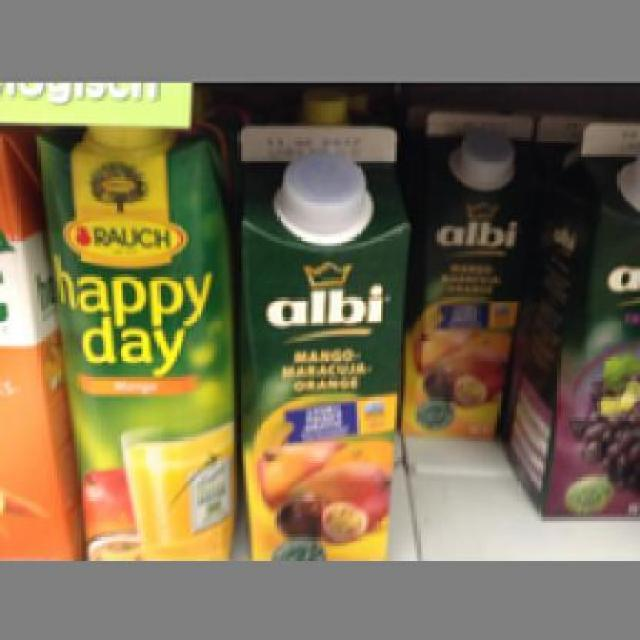Juice: (32, 122, 235, 558), (232, 122, 408, 558), (508, 120, 638, 517), (400, 109, 531, 440)
